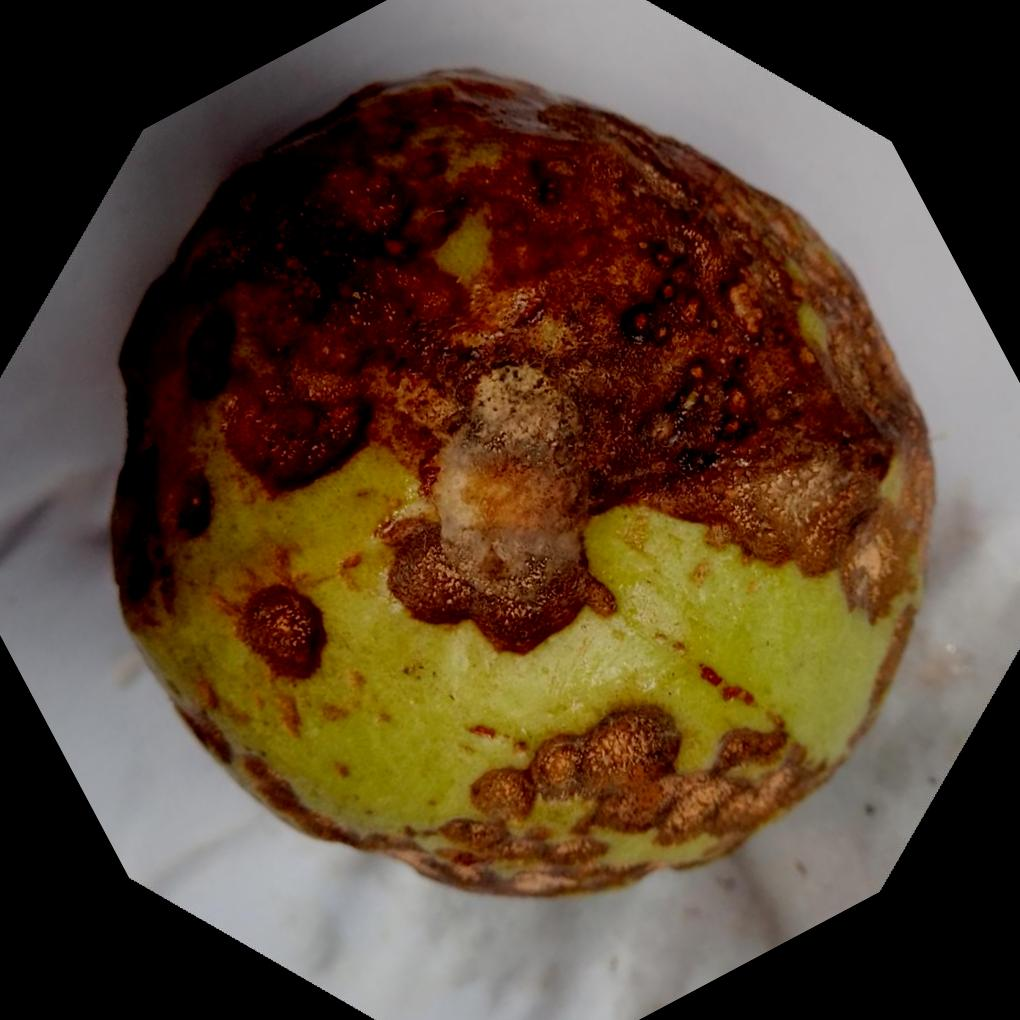FreshOrange: (105, 61, 937, 898)
